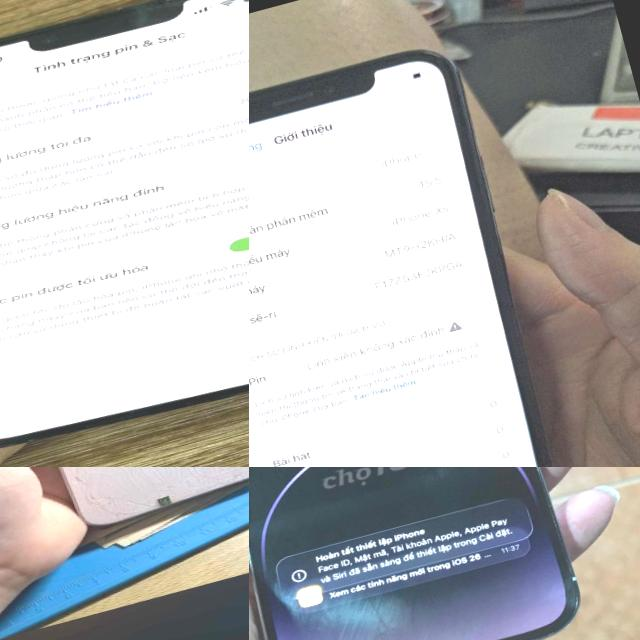gen_12_13: (0, 0, 249, 467)
gen_14: (249, 467, 603, 640), (10, 467, 249, 534)
gen_x_xs: (249, 30, 587, 467)
